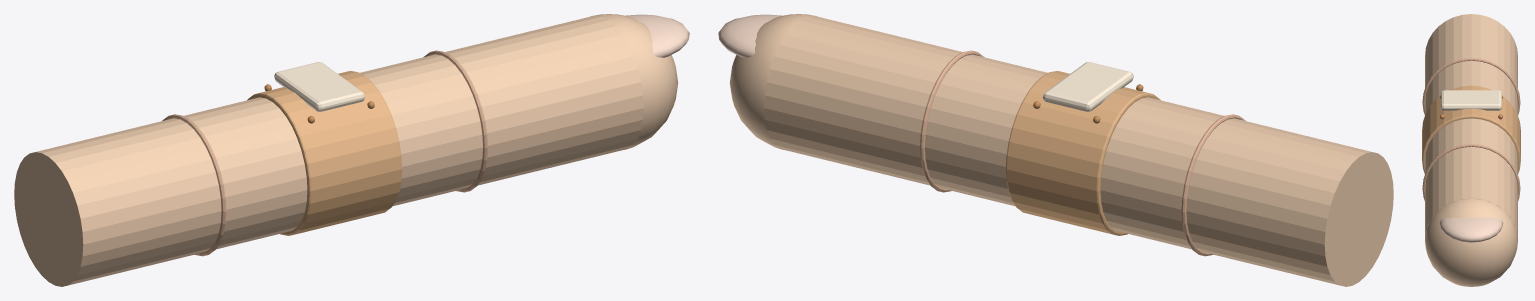
The model's file is plaster.glb.
3 renders of one model, left to right at view 1: azimuth 30°, elevation 25°; view 2: azimuth 150°, elevation 25°; view 3: azimuth 270°, elevation 25°, orthographic. The views are drawn at different scales.
Parts seen in each view (by area): view 1: finger, band, tip, pad, nail, crease0, crease1; view 2: finger, band, tip, pad, nail, crease0, crease1; view 3: finger, tip, band, nail, pad, crease0, crease1.
Part boxes in pixels (x1=…): finger: x1=14, y1=15, x2=643, y2=286; band: x1=247, y1=71, x2=401, y2=235; tip: x1=590, y1=14, x2=678, y2=149; pad: x1=274, y1=62, x2=364, y2=111; nail: x1=626, y1=14, x2=689, y2=57; crease0: x1=423, y1=50, x2=487, y2=192; crease1: x1=162, y1=114, x2=226, y2=256; finger: x1=764, y1=15, x2=1393, y2=286; band: x1=1006, y1=71, x2=1160, y2=235; tip: x1=729, y1=14, x2=817, y2=149; pad: x1=1043, y1=62, x2=1133, y2=111; nail: x1=718, y1=14, x2=781, y2=57; crease0: x1=920, y1=50, x2=984, y2=192; crease1: x1=1181, y1=114, x2=1245, y2=256; finger: x1=1425, y1=14, x2=1517, y2=249; tip: x1=1425, y1=198, x2=1517, y2=286; band: x1=1422, y1=85, x2=1520, y2=173; nail: x1=1439, y1=217, x2=1503, y2=242; pad: x1=1441, y1=90, x2=1501, y2=110; crease0: x1=1422, y1=144, x2=1520, y2=200; crease1: x1=1422, y1=58, x2=1520, y2=114.
Bounding box in the file's own units: 3.41 × 0.705 × 0.68.
